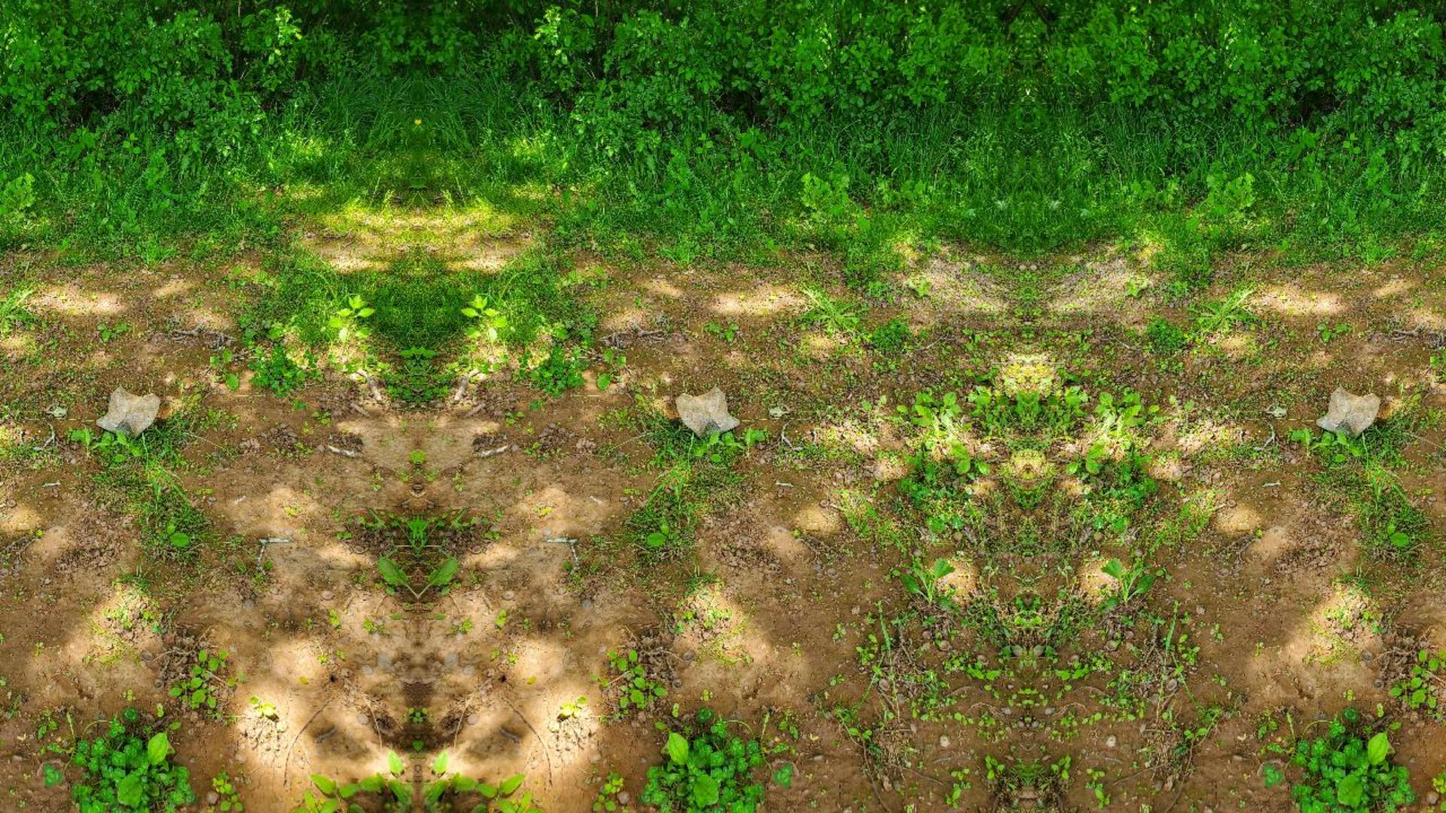rock: (676, 387, 738, 435), (97, 387, 159, 435), (1317, 387, 1379, 435)
